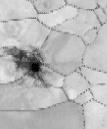good_void: (0, 40, 52, 88), (90, 26, 100, 35), (44, 33, 51, 41)
